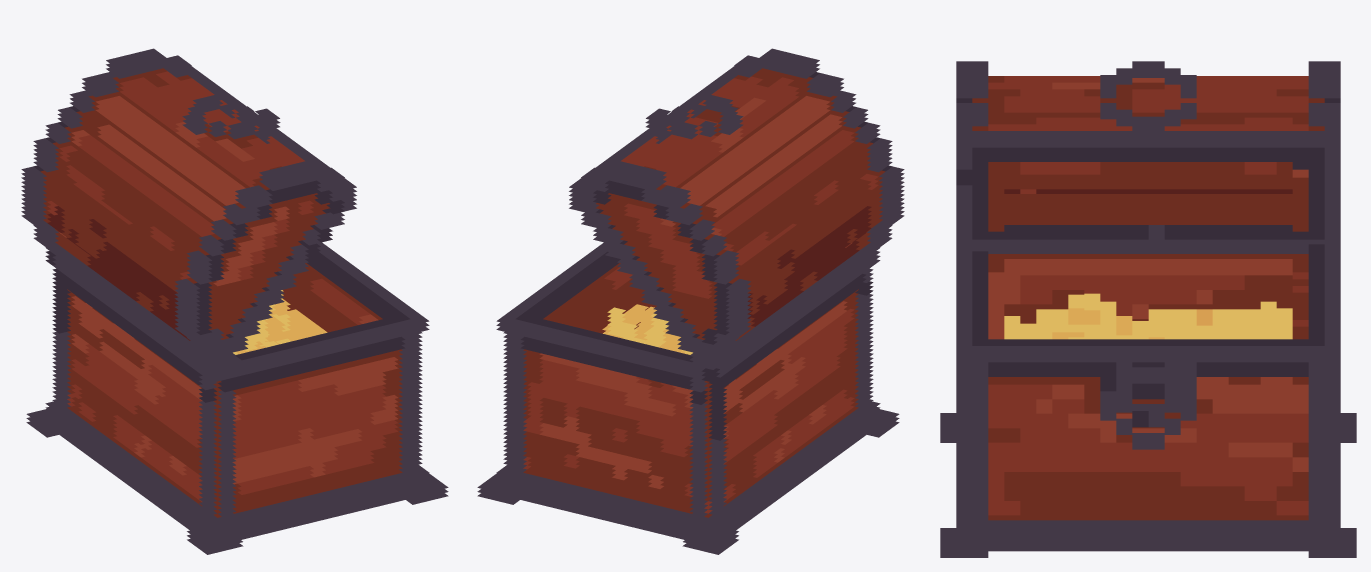
The model's file is chest.gltf.
The picture shows the model from 3 angles, left to right: view 1: azimuth 30°, elevation 25°; view 2: azimuth 150°, elevation 25°; view 3: azimuth 270°, elevation 25°; orthographic projection. The views are drawn at different scales.
Parts seen in each view (by area): view 1: chest; view 2: chest; view 3: chest.
Part boxes in pixels (left/top/right/bottom): chest: left=21, top=48, right=448, bottom=554; chest: left=477, top=48, right=904, bottom=554; chest: left=940, top=61, right=1356, bottom=557.
Size of the model in its own units: 0.21 by 0.2767 by 0.26.
1 material, 1 textured.
